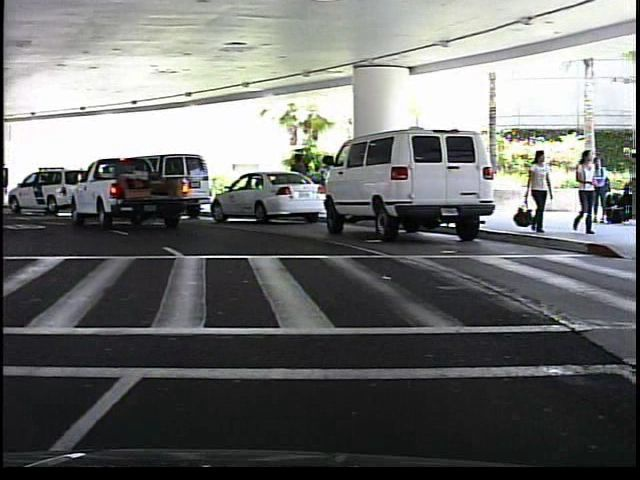person: (523, 145, 554, 233), (572, 148, 601, 238), (288, 150, 312, 213), (594, 155, 614, 227)
